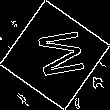M_W: (26, 28, 84, 82)
